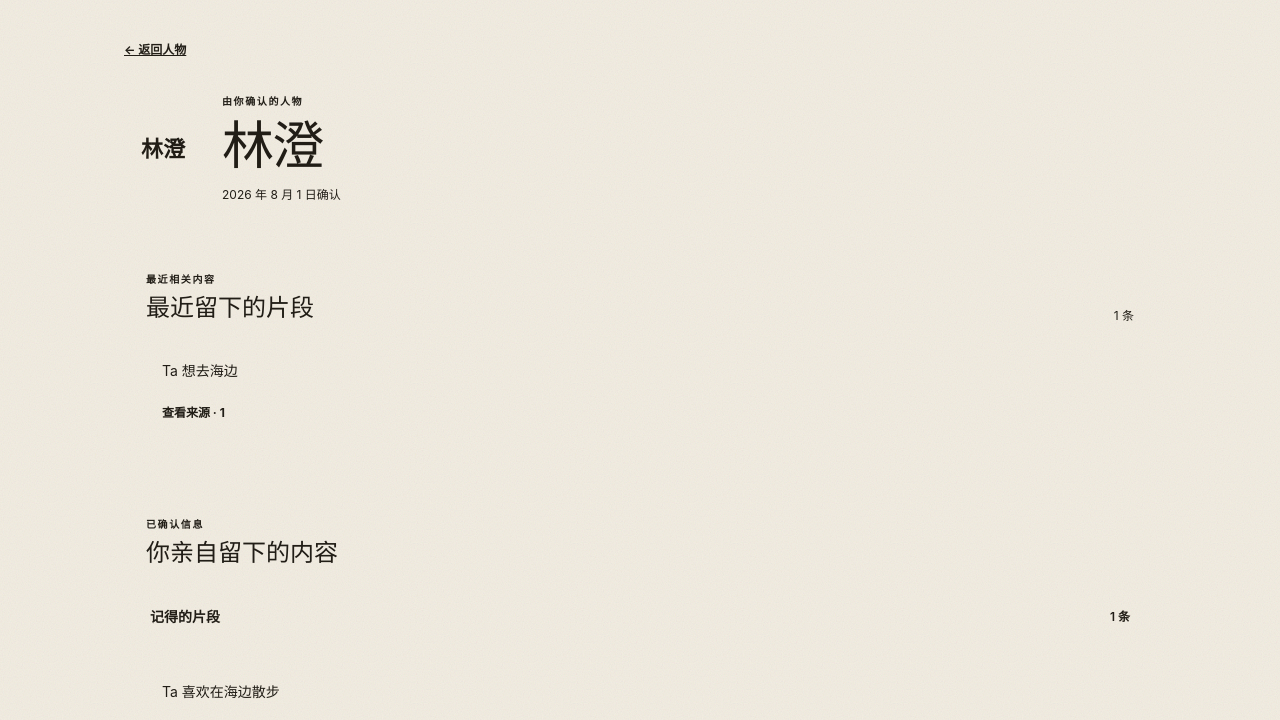
Test: CompanionPerson › keeps derived items visible while distinguishing their canonical supporting words
Click the heading "查看来源 · 1" below "Ta 想去海边" at (193, 413), box [162,405,225,420]
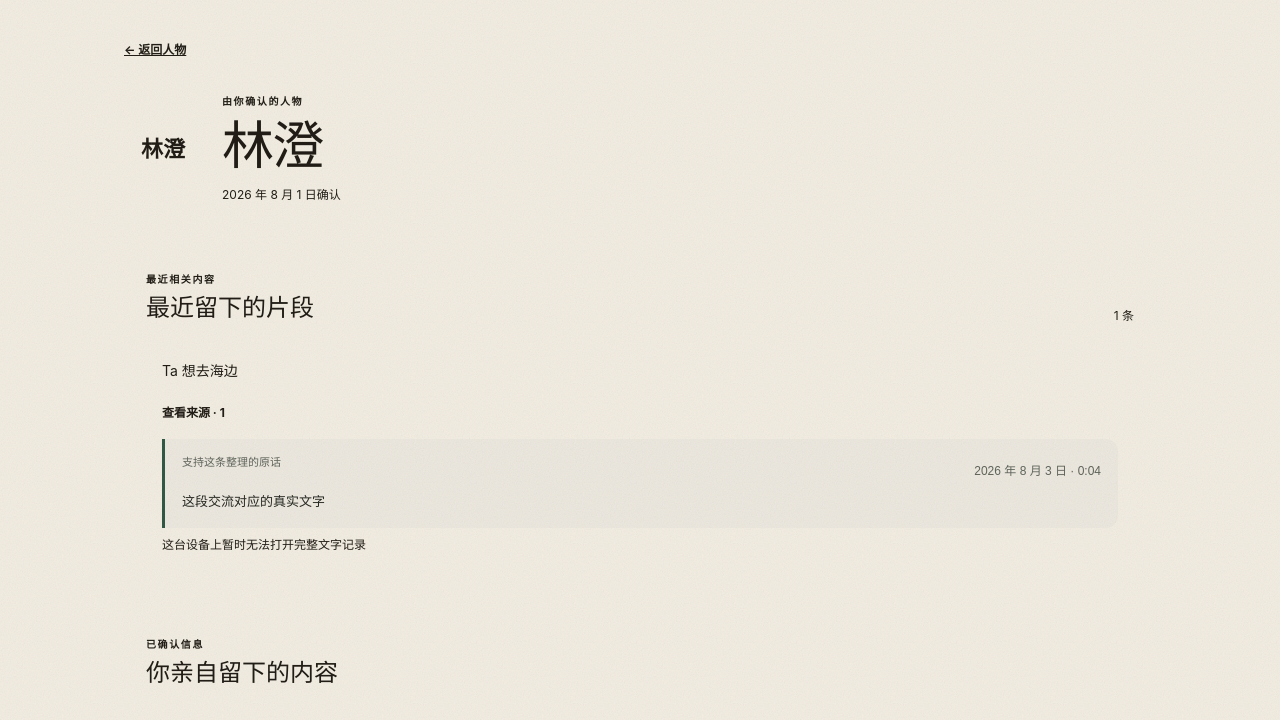
Check: the text "支持这条整理的原话" is shown, box [182,456,281,468]
Check: the text "这段交流对应的真实文字" is shown, box [182,494,325,509]
